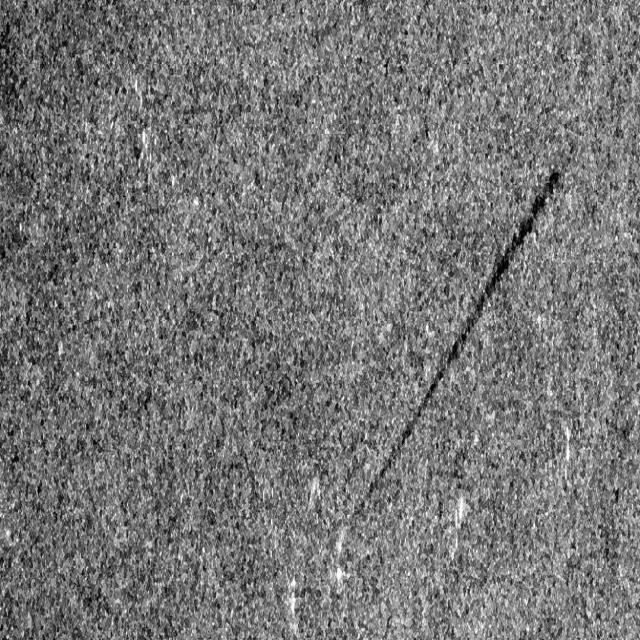oil-spill: (357, 154, 559, 534)
